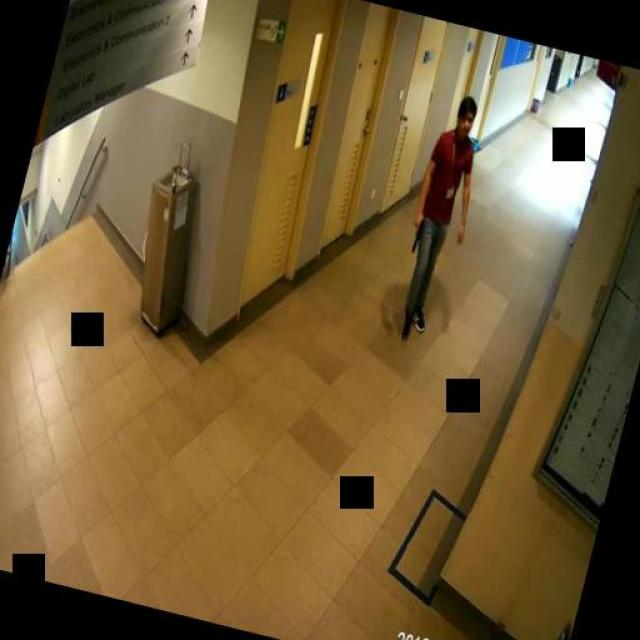gun: (406, 211, 425, 251)
